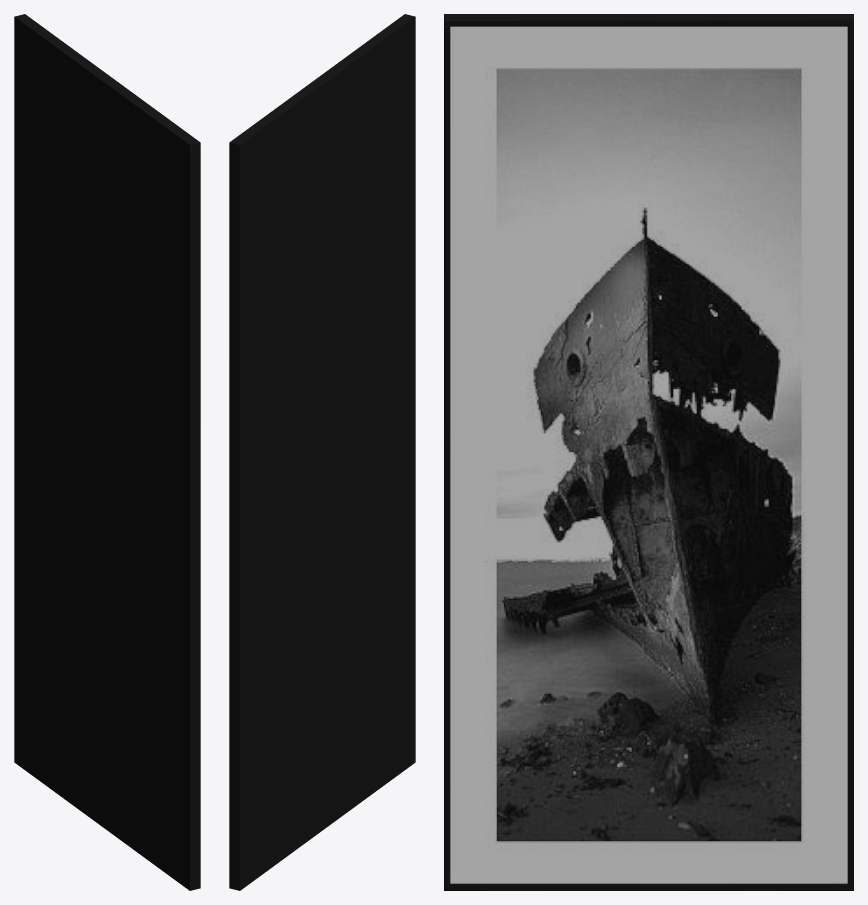
File: WallPainting0017.obj
3 views of the same model, side by side, from view 1: azimuth 30°, elevation 25°; view 2: azimuth 150°, elevation 25°; view 3: azimuth 270°, elevation 25° (orthographic). The views are drawn at different scales.
Size of the model in its own units: 0.014 by 0.938 by 0.4.
Materials: 1 (1 with a texture image).
